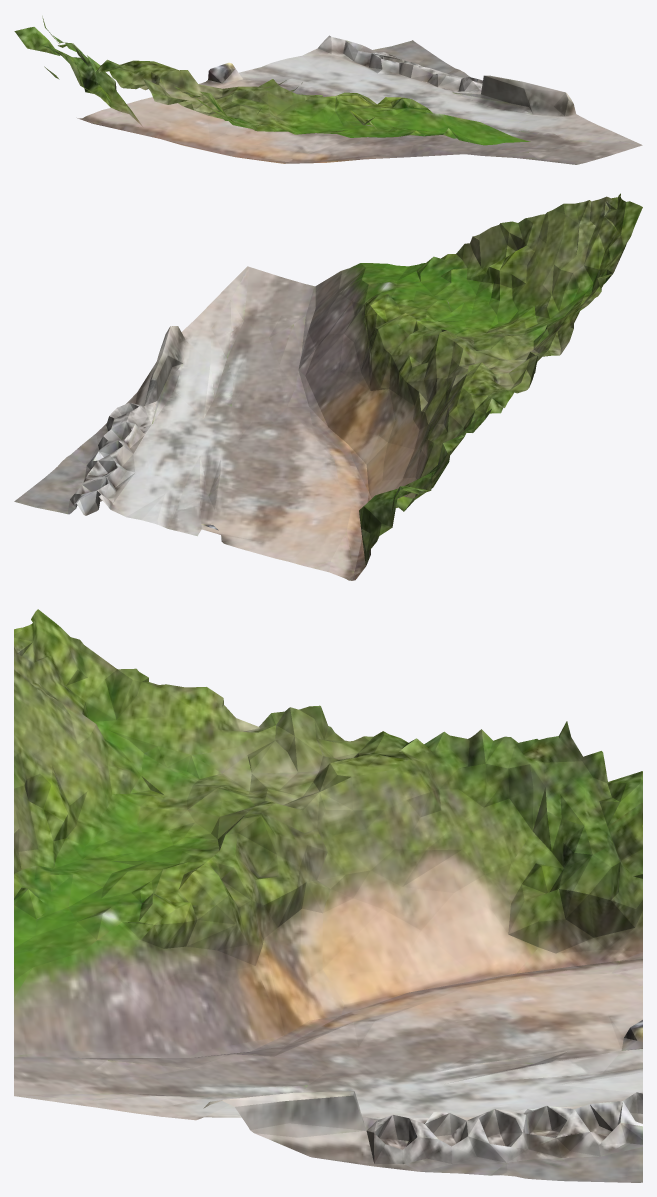
The picture shows the model from 3 angles, top to bottom: view 1: azimuth 30°, elevation 25°; view 2: azimuth 150°, elevation 25°; view 3: azimuth 270°, elevation 25°; orthographic projection. The views are drawn at different scales.
Bounding box in the file's own units: 26.11 × 14.16 × 26.11.
Materials: 3 (3 with a texture image).
